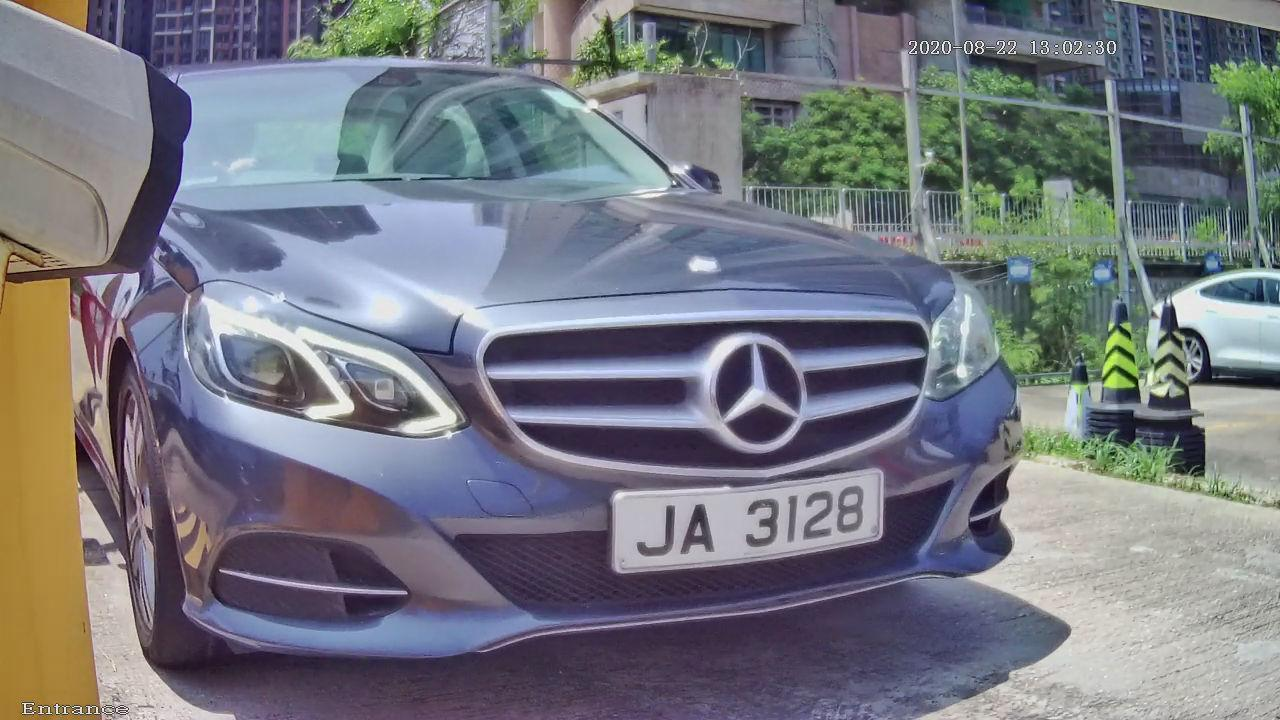Car: (35, 10, 1098, 720)
License Plate: (577, 434, 926, 603)
